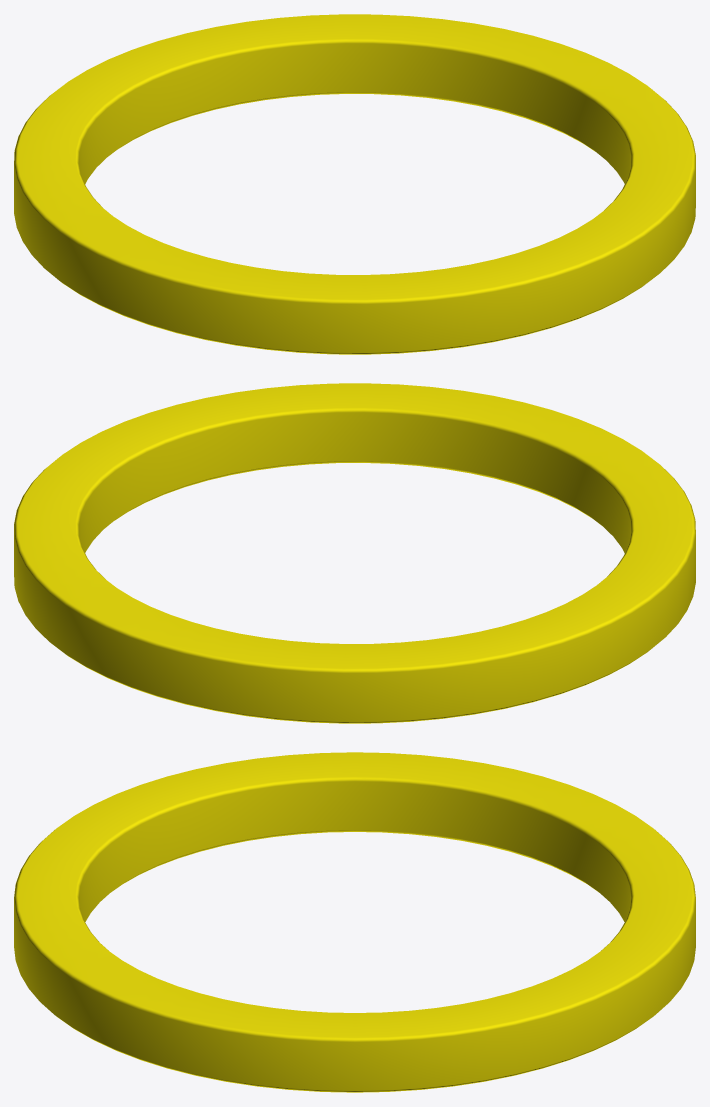
3 renders of one model, top to bottom at view 1: azimuth 30°, elevation 25°; view 2: azimuth 150°, elevation 25°; view 3: azimuth 270°, elevation 25°, orthographic.
Parts seen in each view (by area): view 1: seal_body; view 2: seal_body; view 3: seal_body.
Boxes of the visible parts, left/top/right/bottom form: seal_body: left=14, top=14, right=695, bottom=354; seal_body: left=14, top=383, right=695, bottom=723; seal_body: left=14, top=752, right=695, bottom=1092.
Bounding box in the file's own units: 0.068 × 0.00607 × 0.068.
